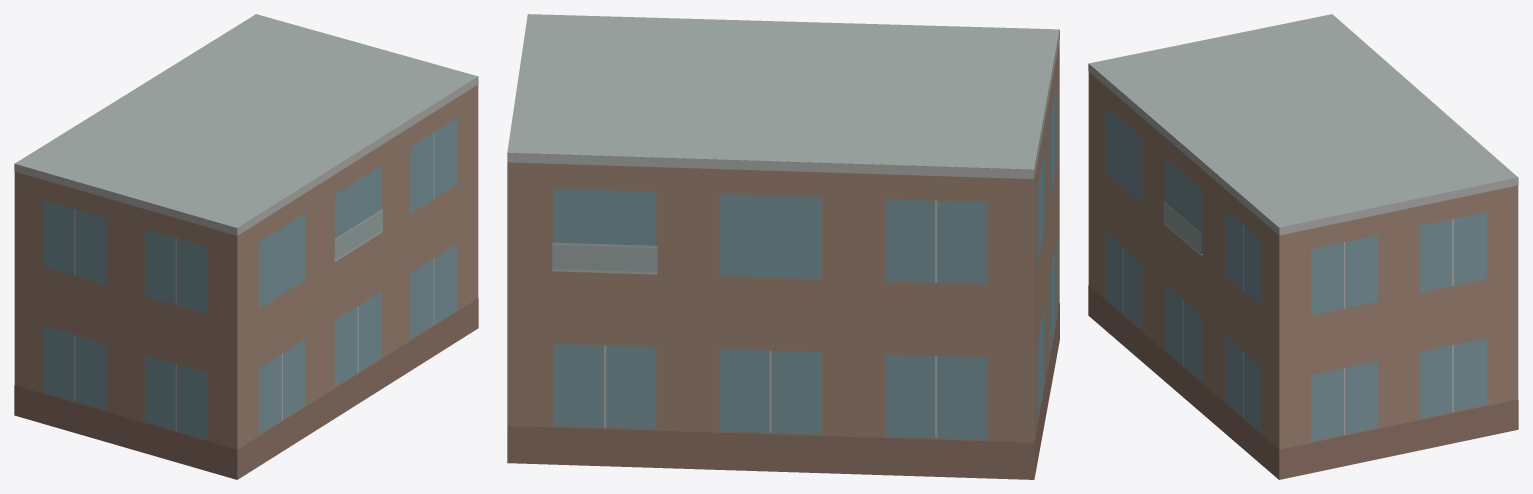
File: survey-upis-32701397.glb
3 views of the same model, side by side, from view 1: azimuth 30°, elevation 25°; view 2: azimuth 150°, elevation 25°; view 3: azimuth 270°, elevation 25° (orthographic). The views are drawn at different scales.
Parts seen in each view (by area): view 1: survey-upis-32701397.tmp; view 2: survey-upis-32701397.tmp; view 3: survey-upis-32701397.tmp.
Part boxes in pixels (x1,y1,x2,y2): survey-upis-32701397.tmp: [14, 14, 478, 479]; survey-upis-32701397.tmp: [507, 14, 1059, 479]; survey-upis-32701397.tmp: [1088, 14, 1518, 479].
Size of the model in its own units: 14.38 by 7.9 by 12.22.
